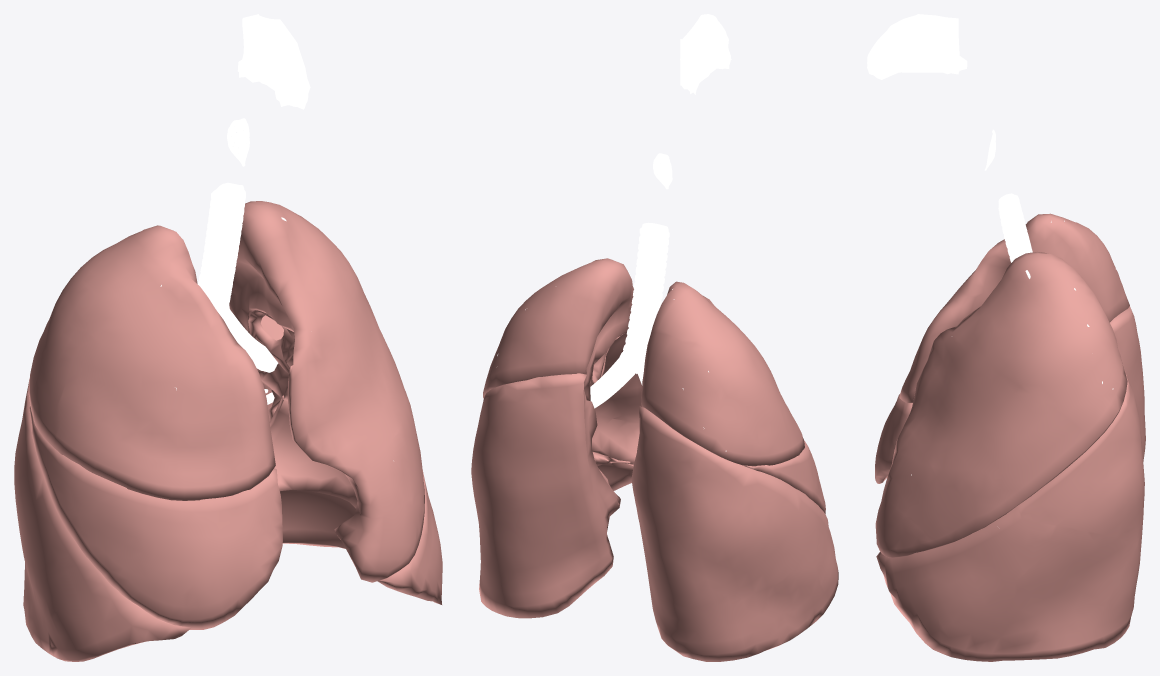
The model's file is respiratory_overview.glb.
3 renders of one model, left to right at view 1: azimuth 30°, elevation 25°; view 2: azimuth 150°, elevation 25°; view 3: azimuth 270°, elevation 25°, orthographic. The views are drawn at different scales.
Parts seen in each view (by area): view 1: Lóbulo superior del pulmón derecho, Lóbulo superior del pulmón izquierdo, Lóbulo medio del pulmón derecho, Lóbulo inferior del pulmón derecho, Lóbulo inferior del pulmón izquierdo, Capa mucosa de la cavidad nasal, Tráquea, Bronquio principal izquierdo, Epiglotis; view 2: Lóbulo inferior del pulmón derecho, Lóbulo inferior del pulmón izquierdo, Lóbulo superior del pulmón derecho, Lóbulo superior del pulmón izquierdo, Tráquea, Capa mucosa de la cavidad nasal, Lóbulo medio del pulmón derecho, Bronquio principal izquierdo; view 3: Lóbulo superior del pulmón izquierdo, Lóbulo inferior del pulmón izquierdo, Lóbulo superior del pulmón derecho, Capa mucosa de la cavidad nasal, Lóbulo inferior del pulmón derecho, Tráquea, Lóbulo medio del pulmón derecho.
Boxes of the visible parts, x1,y1,x2,y2 form: Lóbulo superior del pulmón derecho: (28, 225, 275, 500); Lóbulo superior del pulmón izquierdo: (229, 201, 424, 582); Lóbulo medio del pulmón derecho: (29, 406, 282, 629); Lóbulo inferior del pulmón derecho: (14, 379, 191, 661); Lóbulo inferior del pulmón izquierdo: (260, 315, 442, 604); Capa mucosa de la cavidad nasal: (237, 14, 310, 109); Tráquea: (197, 182, 245, 315); Bronquio principal izquierdo: (221, 309, 273, 370); Epiglotis: (227, 118, 249, 166); Lóbulo inferior del pulmón derecho: (631, 406, 838, 661); Lóbulo inferior del pulmón izquierdo: (471, 373, 633, 618); Lóbulo superior del pulmón derecho: (641, 281, 804, 466); Lóbulo superior del pulmón izquierdo: (483, 258, 641, 464); Tráquea: (619, 222, 669, 373); Capa mucosa de la cavidad nasal: (680, 14, 731, 94); Lóbulo medio del pulmón derecho: (743, 440, 825, 513); Bronquio principal izquierdo: (590, 346, 635, 408); Lóbulo superior del pulmón izquierdo: (875, 252, 1127, 557); Lóbulo inferior del pulmón izquierdo: (876, 372, 1144, 661); Lóbulo superior del pulmón derecho: (899, 213, 1129, 403); Capa mucosa de la cavidad nasal: (867, 14, 967, 79); Lóbulo inferior del pulmón derecho: (1110, 306, 1145, 461); Tráquea: (998, 193, 1032, 262); Lóbulo medio del pulmón derecho: (875, 394, 912, 483).
Bounding box in the file's own units: 0.2618 × 0.4328 × 0.192.
